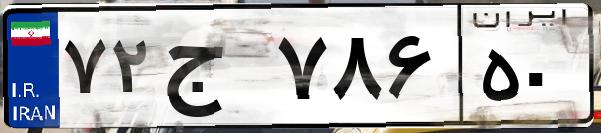0: (525, 38, 570, 115)
2: (110, 28, 158, 98)
5: (475, 38, 525, 113)
6: (385, 28, 445, 110)
7: (270, 28, 330, 110), (57, 26, 110, 100)
8: (330, 28, 385, 110)
ج: (158, 20, 270, 120)
